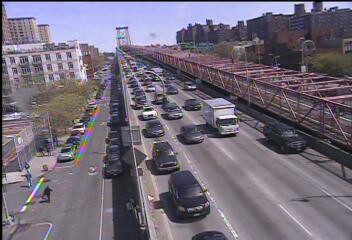neg: (214, 68, 246, 110), (118, 112, 139, 141), (66, 156, 81, 177), (290, 22, 304, 41), (186, 65, 199, 83), (102, 134, 115, 151), (148, 85, 161, 102)
pos: (39, 183, 55, 205), (20, 168, 34, 187), (41, 142, 53, 156), (21, 158, 32, 172), (34, 143, 43, 155)
